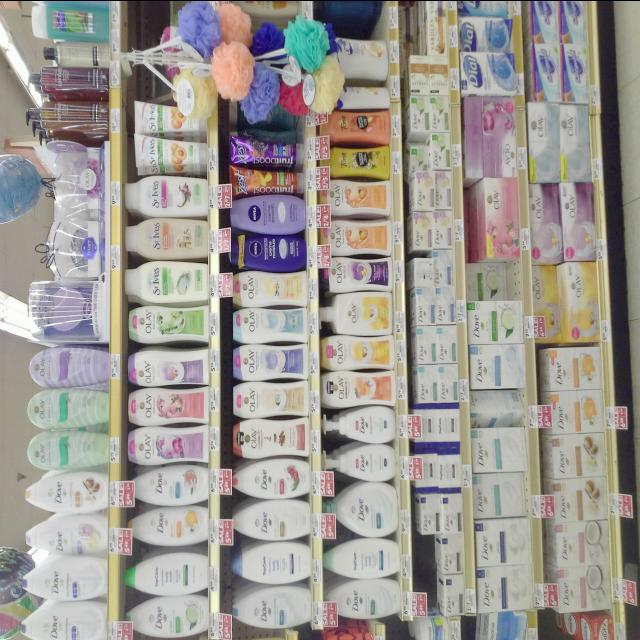empty_space: (334, 0, 384, 32)
